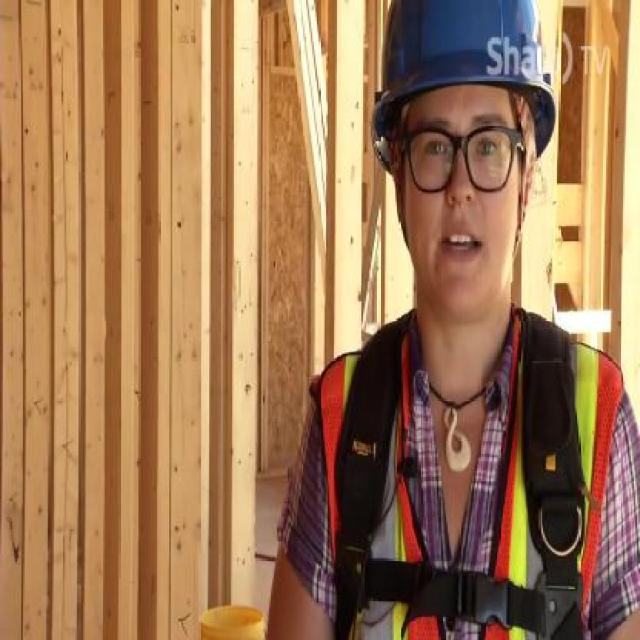Vest: (309, 313, 625, 639)
helmet: (369, 1, 557, 168)
person: (274, 5, 640, 640)
